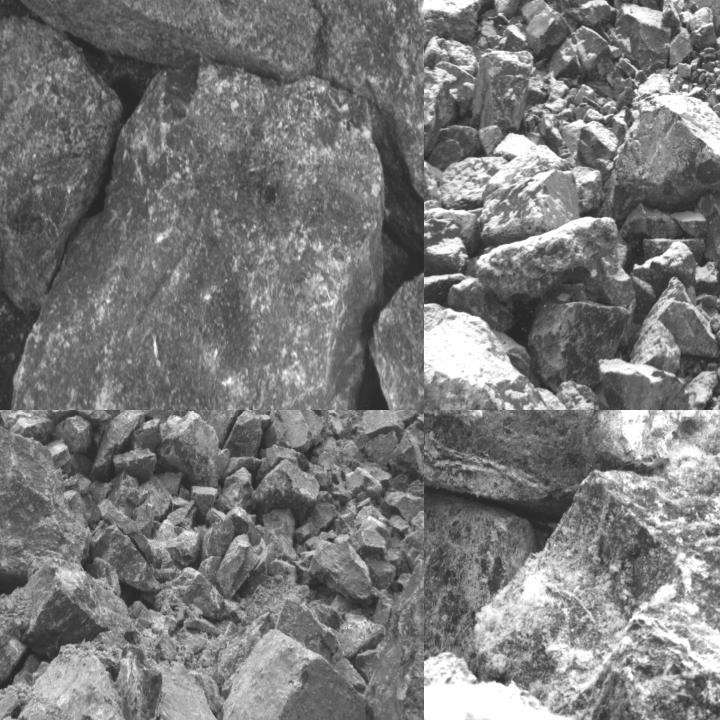stone: (0, 62, 383, 409), (466, 431, 719, 719), (246, 0, 423, 254), (0, 17, 122, 313), (0, 0, 321, 75), (424, 410, 719, 490), (474, 218, 637, 310), (424, 297, 555, 409), (604, 100, 719, 224), (2, 563, 130, 652), (361, 558, 423, 719), (528, 302, 630, 393), (480, 170, 579, 236), (155, 411, 229, 487), (652, 279, 719, 359), (88, 523, 162, 592), (471, 48, 534, 129), (308, 539, 382, 605), (155, 657, 231, 719), (603, 3, 671, 72), (599, 357, 689, 409), (250, 460, 320, 522), (90, 410, 146, 482), (114, 643, 161, 719), (439, 156, 505, 209), (549, 27, 610, 80), (628, 316, 681, 376), (632, 241, 697, 289), (424, 64, 455, 158), (522, 0, 573, 55), (424, 219, 469, 280), (424, 0, 483, 44), (223, 410, 271, 459), (263, 410, 313, 452), (339, 613, 386, 657), (696, 196, 719, 280), (570, 161, 606, 212), (389, 429, 423, 482), (580, 122, 618, 168), (207, 410, 255, 444), (51, 415, 93, 453), (560, 0, 619, 26), (559, 382, 615, 409), (114, 448, 156, 484), (216, 468, 254, 507), (202, 518, 235, 557), (424, 149, 441, 224), (143, 477, 172, 520), (688, 6, 718, 46), (359, 410, 405, 436), (166, 529, 200, 564), (347, 530, 387, 556), (669, 25, 694, 66), (127, 410, 195, 423), (310, 502, 336, 536), (400, 528, 423, 566), (367, 559, 397, 587), (42, 410, 112, 420), (492, 0, 521, 18), (596, 152, 610, 178)
